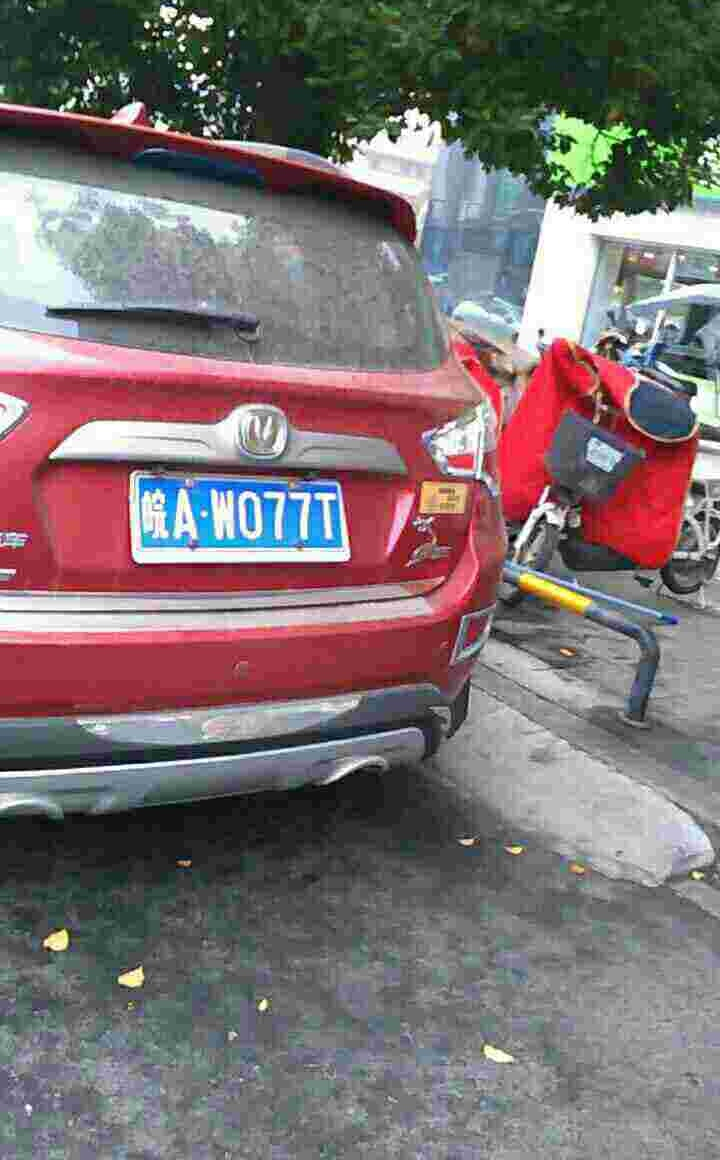license_plate: (143, 476, 355, 555)
